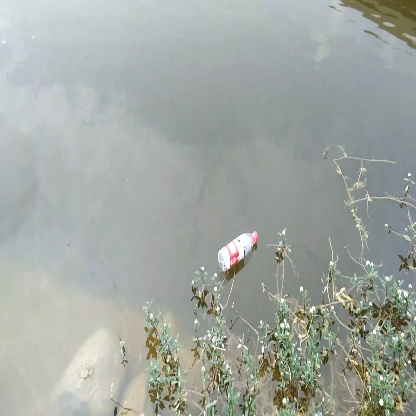bottle: (215, 230, 264, 274)
